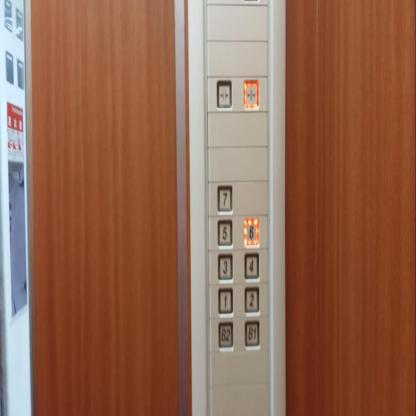1: (217, 285, 234, 317)
2: (243, 285, 260, 316)
3: (216, 251, 234, 282)
4: (243, 249, 260, 280)
5: (216, 218, 234, 248)
6: (242, 216, 260, 248)
7: (215, 183, 234, 215)
B1: (244, 318, 260, 349)
B2: (217, 320, 234, 350)
close: (243, 77, 259, 111)
open: (216, 78, 232, 110)
